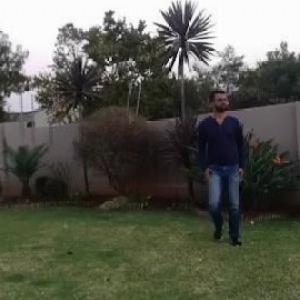follow: (189, 73, 254, 271)
